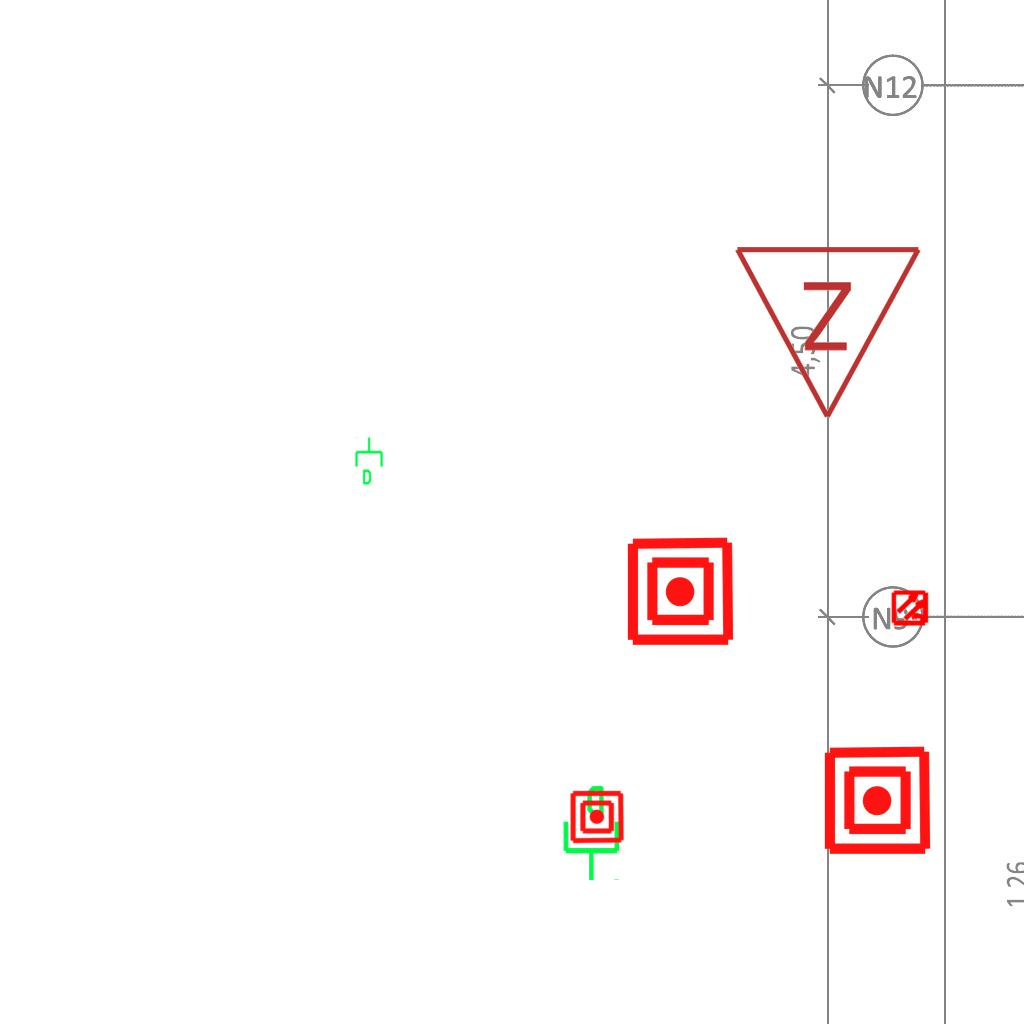Datenanschluss_einfach: (555, 783, 624, 883), (353, 436, 387, 486)
NAM-Nichtautomatischer_Melder: (821, 744, 934, 857), (624, 535, 737, 648), (569, 789, 625, 845)
OT_Multisensormelder_(Kombination_RMO_WMD): (883, 580, 939, 636)
Zimmersignalleuchte: (732, 232, 928, 432)
